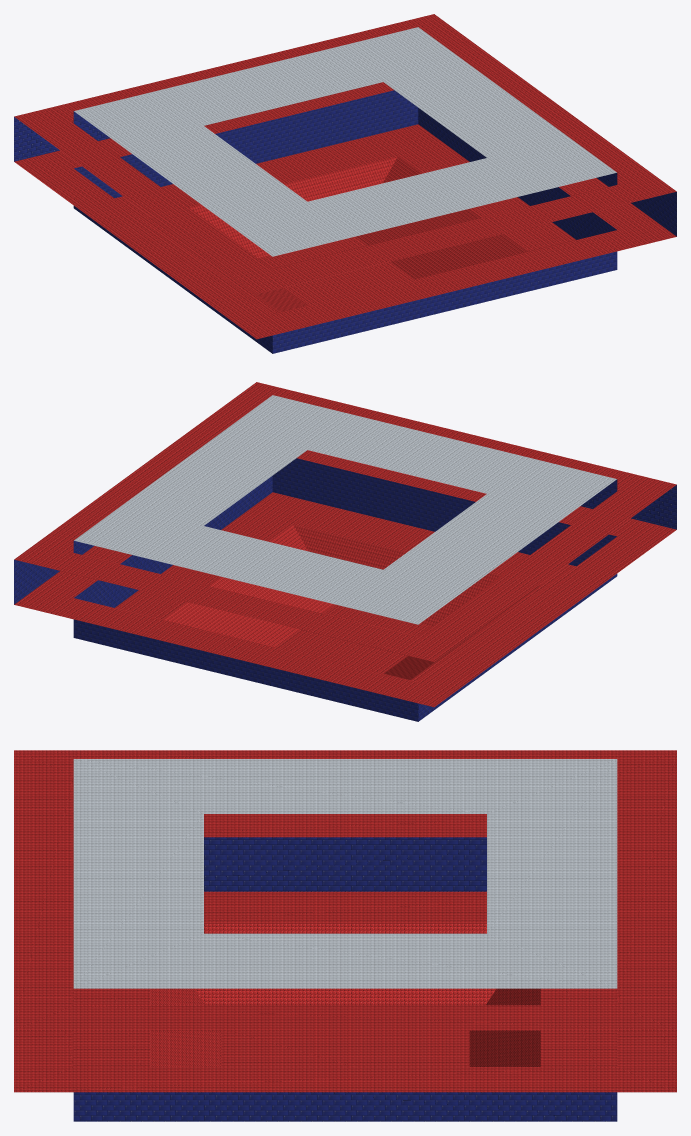
The model's file is passthrough.obj.
3 views of the same model, one above another, from view 1: azimuth 30°, elevation 25°; view 2: azimuth 150°, elevation 25°; view 3: azimuth 270°, elevation 25° (orthographic). The views are drawn at different scales.
Parts seen in each view (by area): view 1: Plane.001; view 2: Plane.001; view 3: Plane.001.
Part boxes in pixels (x1=…): Plane.001: x1=14, y1=14, x2=676, y2=353; Plane.001: x1=14, y1=382, x2=676, y2=721; Plane.001: x1=14, y1=750, x2=676, y2=1121.
Bounding box in the file's own units: 235 × 74.3 × 235.
